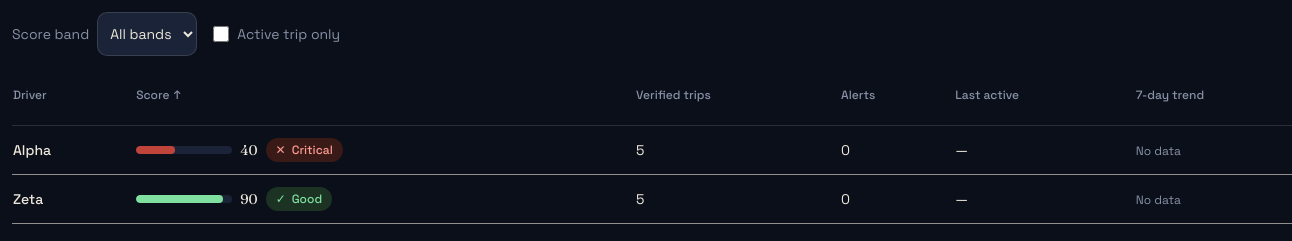
Test case: DriverListClient › toggles sort direction when the same column header is clicked twice
Step 1. Click the button with aria-label "Sort by Score" → (159, 95), box [136,73,181,117]
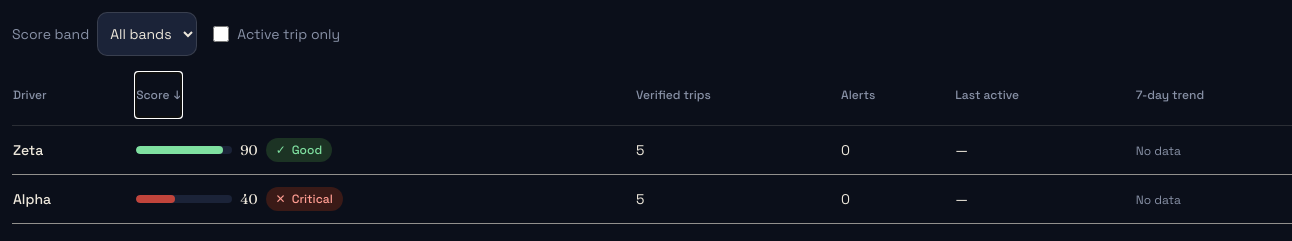
Expected: the links read "Zeta", "Alpha", in this order, [13,141,43,159]; [13,190,51,208]
Step 2. Click the button with aria-label "Sort by Score" → (159, 95), box [136,73,181,117]
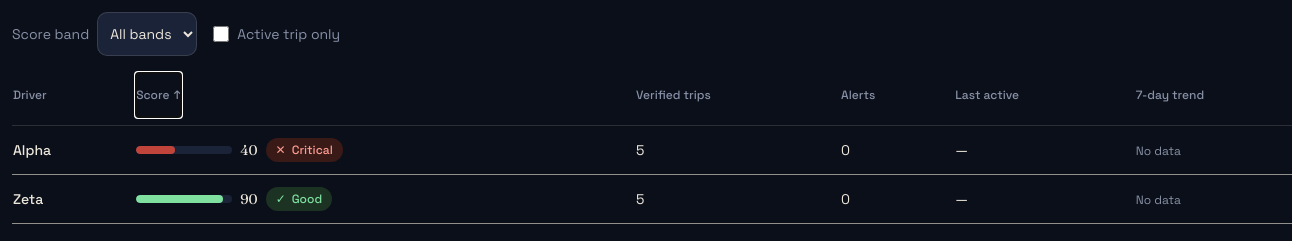
Expected: the links read "Alpha", "Zeta", in this order, [13,141,51,159]; [13,190,43,208]
